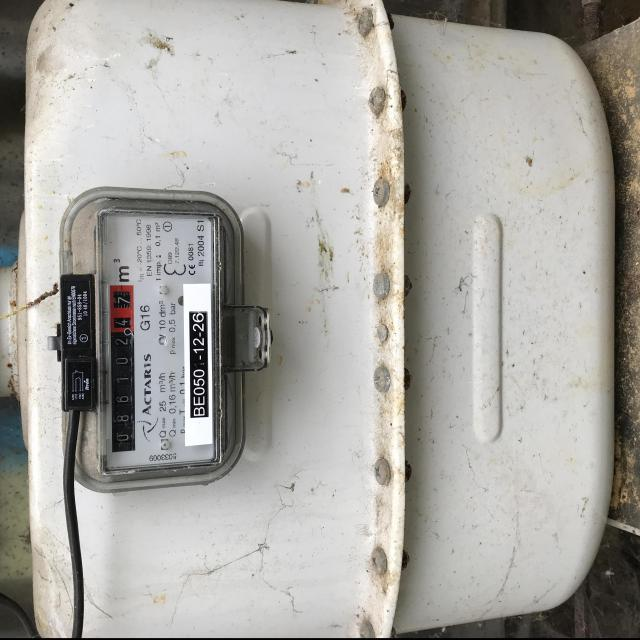gaz_meter: (61, 194, 238, 486)
indication: (106, 287, 137, 459)
